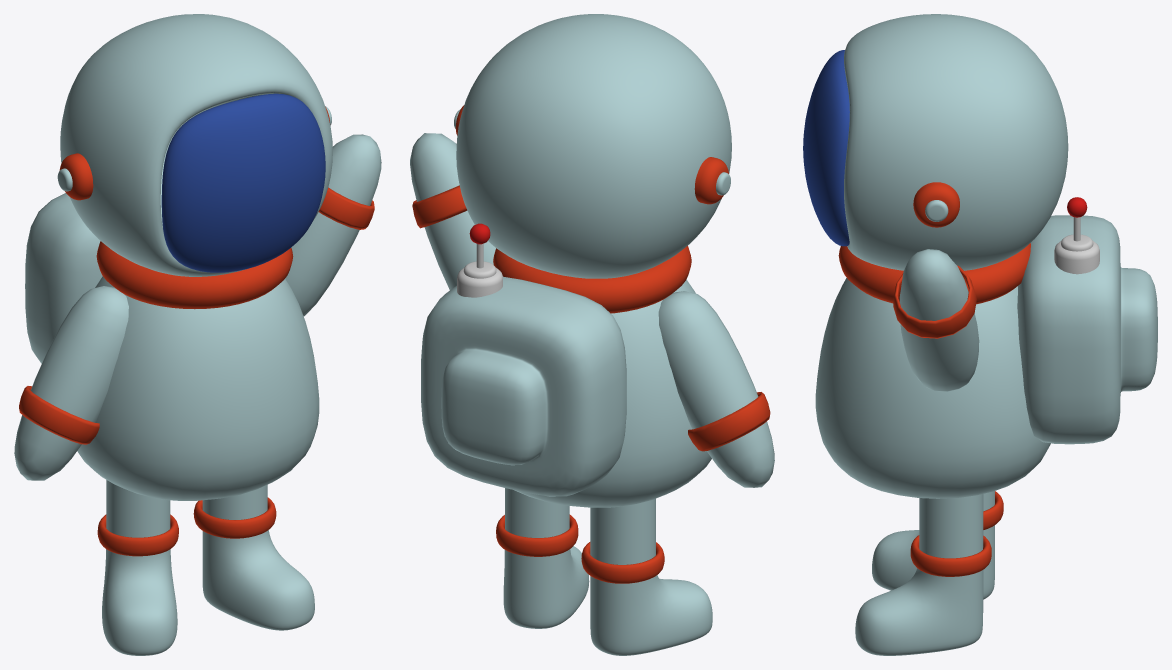
The model's file is Astronauta.obj.
The picture shows the model from 3 angles, left to right: view 1: azimuth 30°, elevation 25°; view 2: azimuth 150°, elevation 25°; view 3: azimuth 270°, elevation 25°; orthographic projection.
Visible parts, largest first — view 1: Cube.002, Cube, Cube.001, Cube.008, Cube.011, Cube.003, Cube.007, Cube.005, Torus, Cube.009, Cube.010, Cube.004 (+2 smaller); view 2: Cube, Cube.007, Cube.002, Cube.011, Cube.008, Cube.003, Cube.005, Torus, Cube.009, Cube.004, Cube.010, Cylinder (+2 smaller); view 3: Cube, Cube.002, Cube.007, Cube.003, Cube.005, Cube.001, Torus, Cube.011, Cube.006, Cylinder.002, Cube.004, Cylinder.
Boxes of the visible parts, bbox=[...] form: Cube.002: bbox=[77, 276, 319, 500]; Cube: bbox=[60, 14, 332, 276]; Cube.001: bbox=[161, 93, 325, 272]; Cube.008: bbox=[14, 286, 128, 480]; Cube.011: bbox=[102, 480, 177, 655]; Cube.003: bbox=[202, 485, 314, 630]; Cube.007: bbox=[25, 193, 102, 363]; Cube.005: bbox=[285, 134, 381, 316]; Torus: bbox=[96, 241, 293, 309]; Cube.009: bbox=[19, 386, 99, 444]; Cube.010: bbox=[97, 514, 178, 556]; Cube.004: bbox=[193, 497, 276, 538]; Cube: bbox=[456, 14, 731, 278]; Cube.007: bbox=[421, 276, 626, 496]; Cube.002: bbox=[514, 279, 711, 507]; Cube.011: bbox=[590, 498, 712, 655]; Cube.008: bbox=[658, 291, 774, 487]; Cube.003: bbox=[503, 488, 589, 628]; Cube.005: bbox=[410, 133, 495, 289]; Torus: bbox=[493, 246, 691, 313]; Cube.009: bbox=[688, 392, 770, 451]; Cube.004: bbox=[496, 514, 578, 556]; Cube.010: bbox=[581, 542, 664, 583]; Cylinder: bbox=[457, 243, 502, 297]; Cube: bbox=[844, 14, 1068, 270]; Cube.002: bbox=[815, 278, 1050, 498]; Cube.007: bbox=[1017, 215, 1157, 444]; Cube.003: bbox=[855, 494, 983, 655]; Cube.005: bbox=[899, 249, 979, 391]; Cube.001: bbox=[803, 50, 849, 246]; Torus: bbox=[838, 243, 1030, 304]; Cube.011: bbox=[872, 491, 994, 599]; Cube.006: bbox=[893, 265, 976, 338]; Cylinder.002: bbox=[913, 182, 959, 227]; Cube.004: bbox=[910, 535, 991, 576]; Cylinder: bbox=[1054, 217, 1099, 274].
Bounding box in the file's own units: 1.58 × 2.5 × 1.37.
